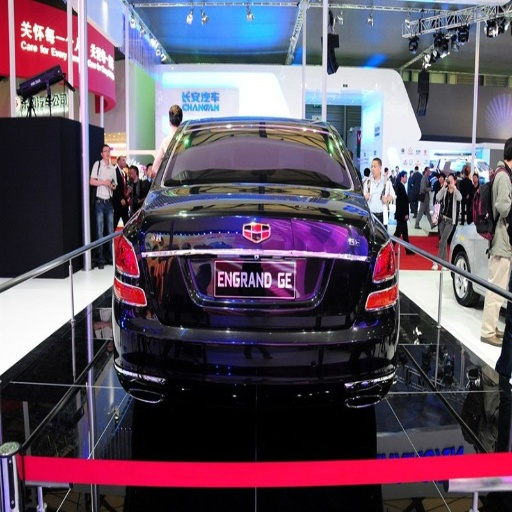back_bumper: (115, 281, 396, 418)
tailgate: (132, 213, 379, 331)
